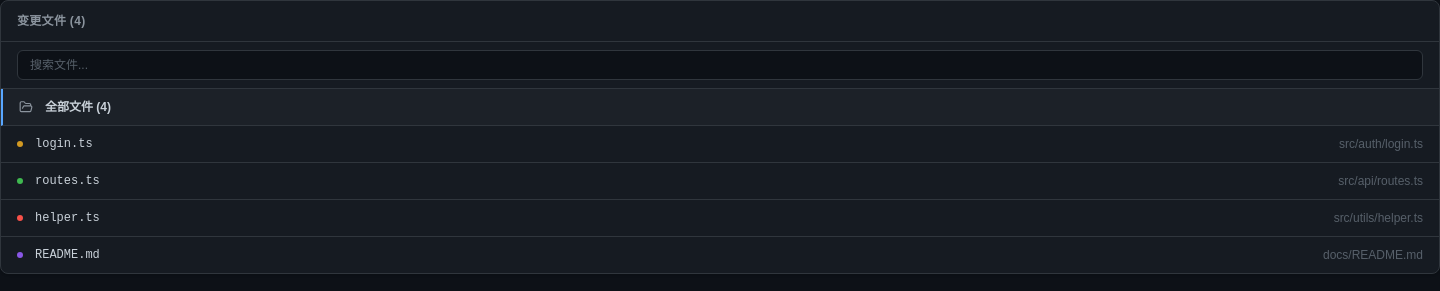
it: FileTree › 搜索过滤文件列表
The width and height of the screenshot is (1440, 291).
In the field with placeholder "搜索文件...": (720, 65) x1=17 y1=50 x2=1423 y2=80, type "login"
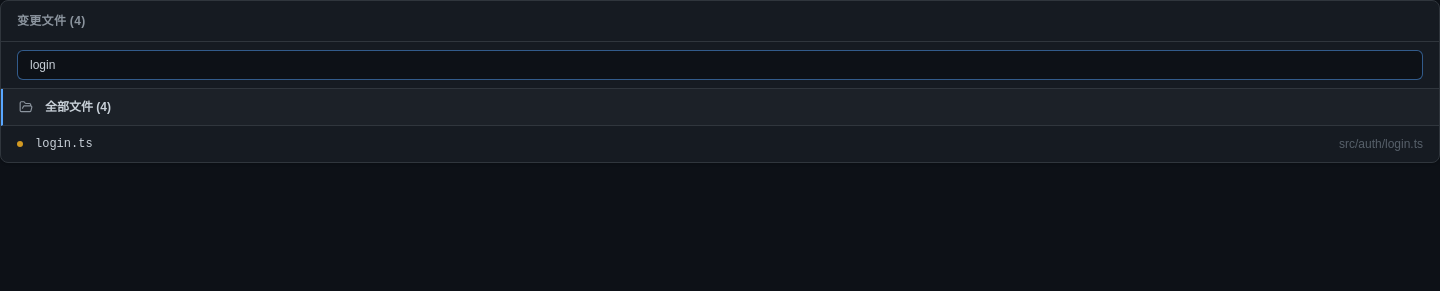
Expected: the button "login.ts" is shown, x1=35 y1=136 x2=1327 y2=152
Now the button "routes.ts" is gone
